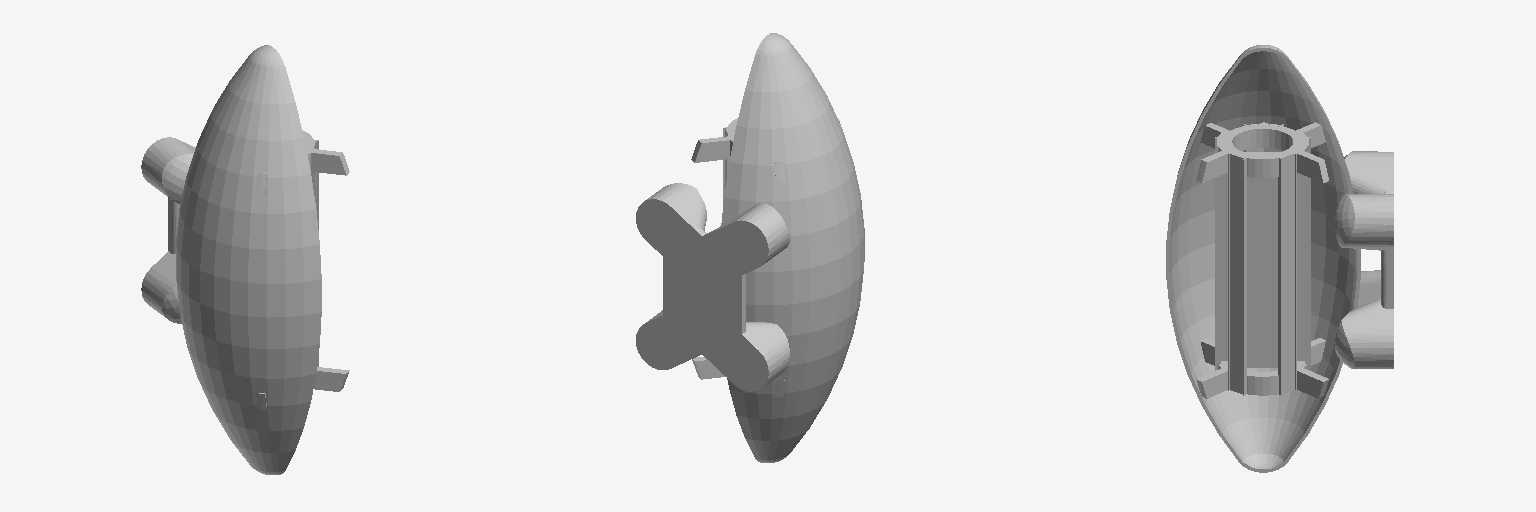
File: LED Zeppelin final design.obj
3 views of the same model, side by side, from view 1: azimuth 30°, elevation 25°; view 2: azimuth 150°, elevation 25°; view 3: azimuth 270°, elevation 25° (orthographic).
Visible parts, largest first — view 1: Body1, Body1:1, Body7, Body5; view 2: Body1, Body1:1, Body7, Body5; view 3: Body1, Body1:1, Body2, Body7, Body26, Body25, Body5, Body21, Body17.
Part boxes in pixels (x1,y1,x2,y2): Body1: (176,45,321,474); Body1:1: (141,137,195,323); Body7: (256,130,349,194); Body5: (256,367,349,409); Body1: (721,33,864,462); Body1:1: (636,183,789,391); Body7: (691,118,842,182); Body5: (692,357,784,396); Body1: (1166,45,1360,472); Body1:1: (1335,151,1393,368); Body2: (1221,152,1304,367); Body7: (1196,122,1328,183); Body26: (1228,152,1246,395); Body25: (1278,152,1296,395); Body5: (1196,338,1328,398); Body21: (1305,137,1310,370); Body17: (1215,137,1220,370).
Size of the model in its own units: 13.36 by 36 by 17.47.